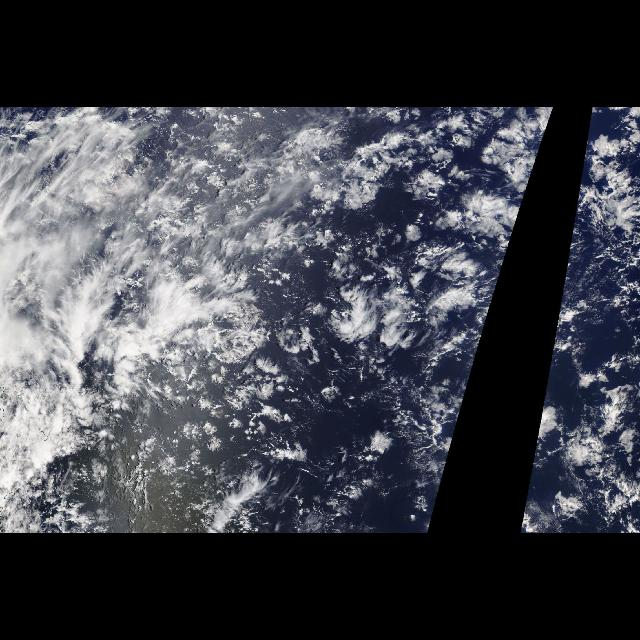Flower: (325, 249, 509, 533), (518, 249, 640, 533)
